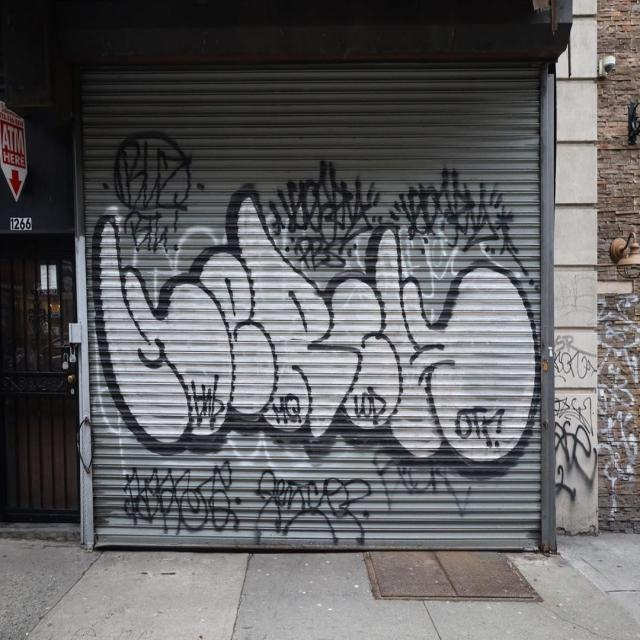nonspitting: (92, 187, 538, 480), (119, 457, 374, 546), (547, 287, 640, 521), (270, 158, 386, 276), (389, 164, 523, 260), (108, 130, 200, 254), (375, 457, 477, 514)
